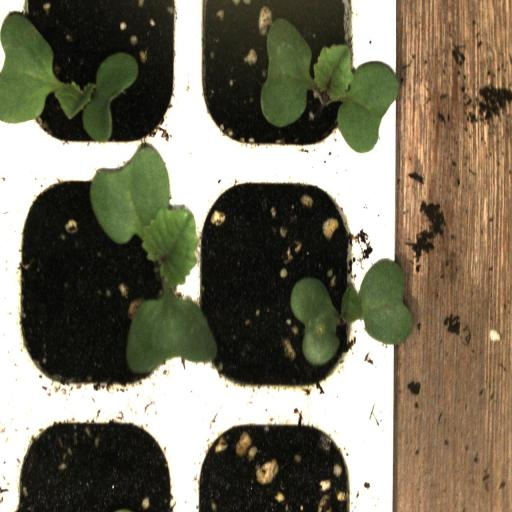seedling: (184, 165, 375, 395), (6, 163, 185, 399), (186, 0, 374, 162), (14, 0, 186, 162)
